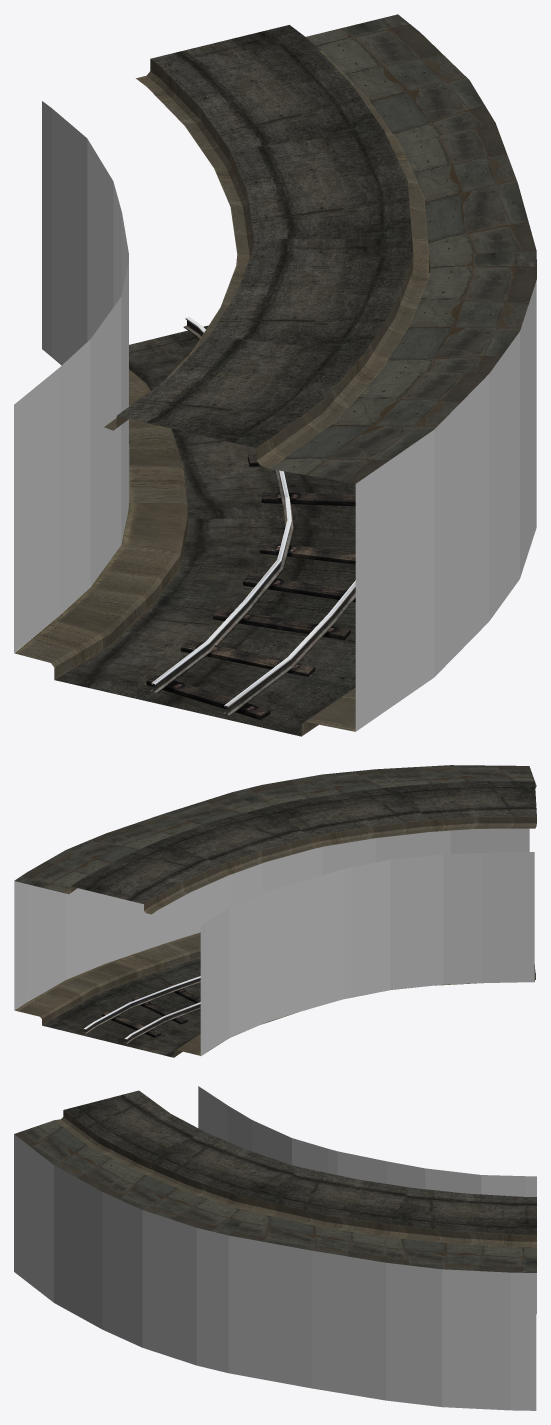
File: MidTunnelBend.fbx
3 renders of one model, top to bottom at view 1: azimuth 30°, elevation 25°; view 2: azimuth 150°, elevation 25°; view 3: azimuth 270°, elevation 25°, orthographic. The views are drawn at different scales.
Visible parts, largest first — view 1: MidTunnelBend; view 2: MidTunnelBend; view 3: MidTunnelBend.
Boxes of the visible parts, box(x1,y1,x2,y2) form: MidTunnelBend: box(14, 14, 536, 736); MidTunnelBend: box(14, 765, 536, 1057); MidTunnelBend: box(14, 1086, 536, 1410).
Bounding box in the file's own units: 1415 × 560 × 1674.
